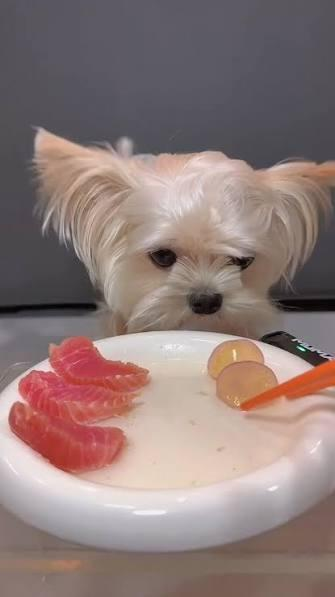puppy-dog: (32, 124, 335, 339)
